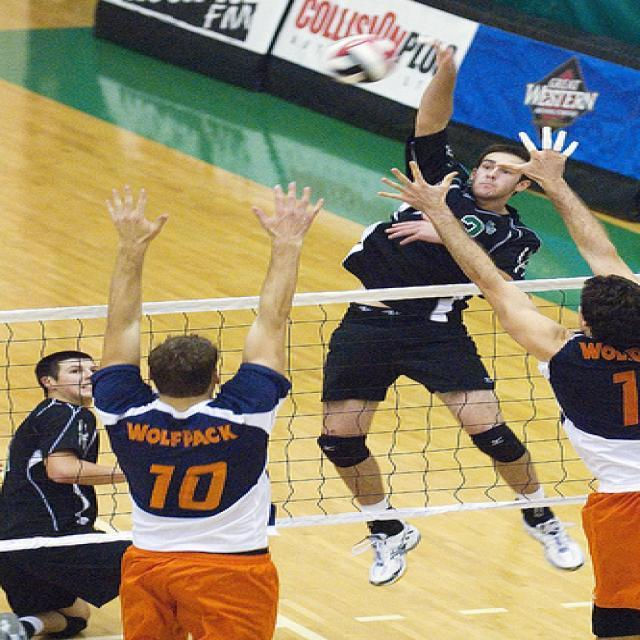volleyball: (324, 34, 397, 84)
